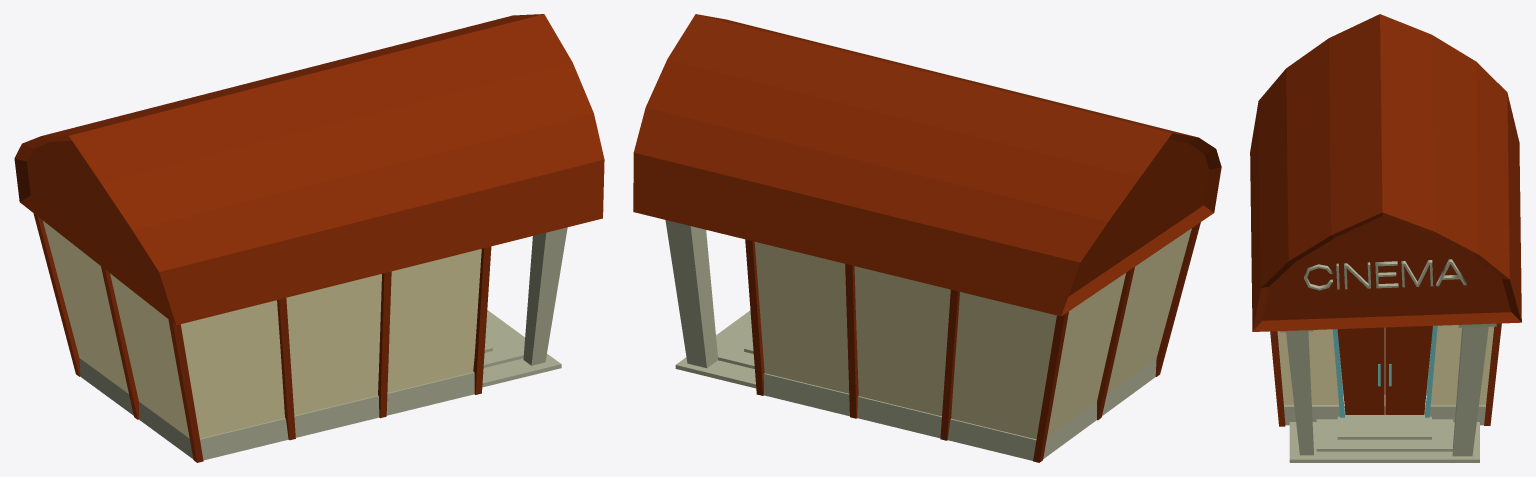
The model's file is Cinema.glb.
The picture shows the model from 3 angles, left to right: view 1: azimuth 30°, elevation 25°; view 2: azimuth 150°, elevation 25°; view 3: azimuth 270°, elevation 25°; orthographic projection. The views are drawn at different scales.
Visible parts, largest first — view 1: Cinema; view 2: Cinema; view 3: Cinema.
Part boxes in pixels (x1,y1,x2,y2): Cinema: (14, 14, 604, 462); Cinema: (633, 14, 1221, 462); Cinema: (1250, 14, 1521, 462).
Bounding box in the file's own units: 5.83 × 3.58 × 3.31.
